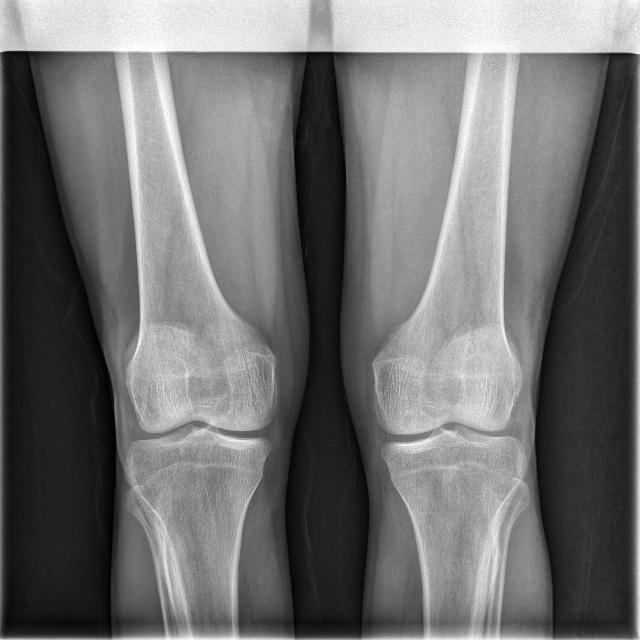Knee: (117, 362, 276, 501), (366, 365, 526, 502)
